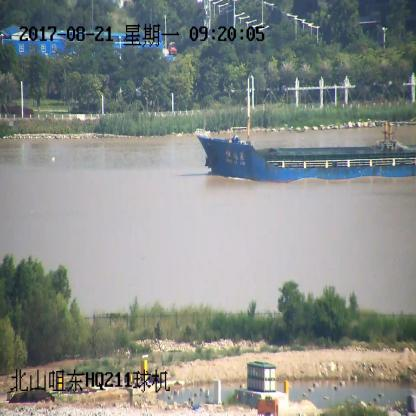Bulk Carrier: (195, 81, 415, 182)
